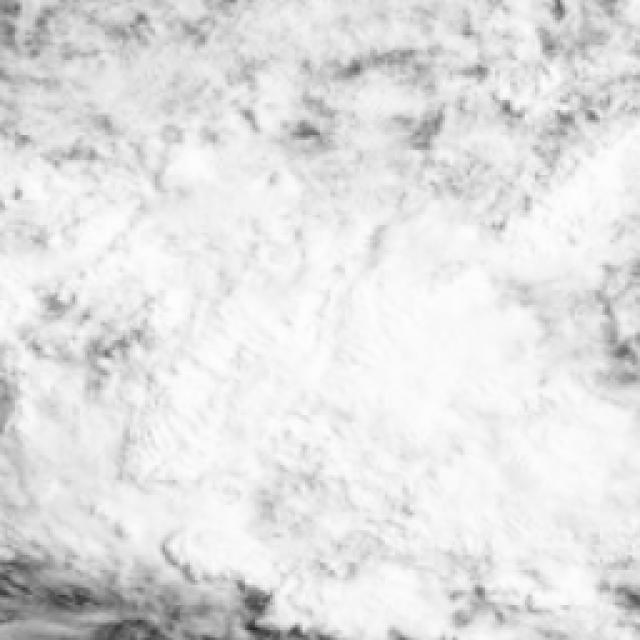CB: (326, 262, 544, 446)
